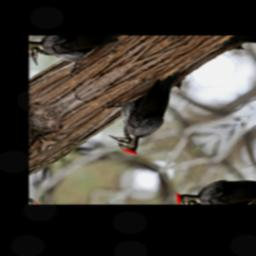Woodpecker: (86, 60, 222, 159)
